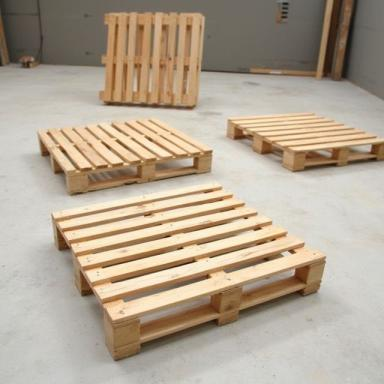pallet: (51, 182, 327, 361), (37, 117, 213, 196), (99, 12, 205, 106), (226, 112, 384, 172), (88, 167, 137, 186)
